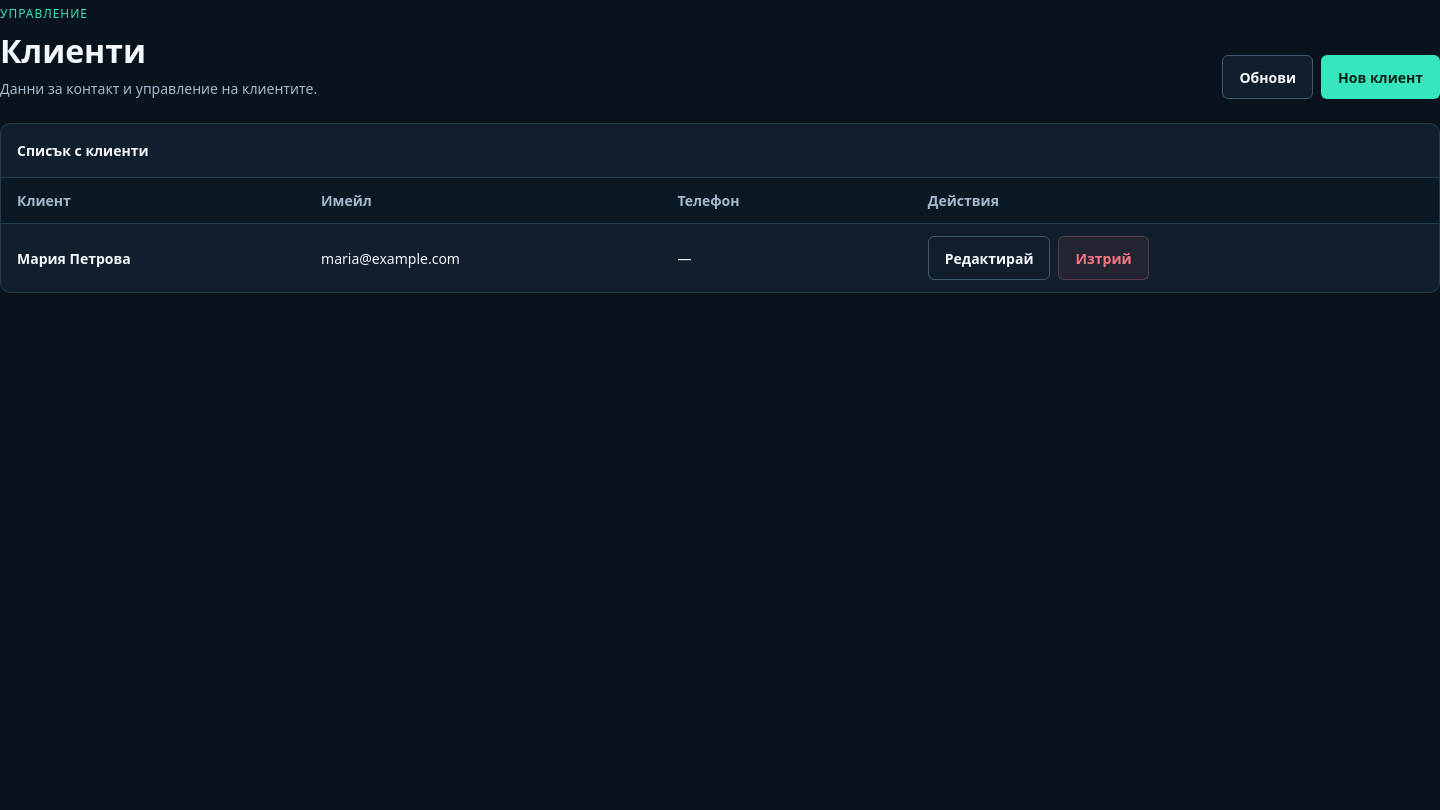
it: handles an edit detail 404 with list refresh instead of a blank editing form
The width and height of the screenshot is (1440, 810).
Check: the table is shown, box [1, 124, 1439, 292]
Click the button with aria-label "Редактирай Мария Петрова".
click(989, 258)  # box [928, 236, 1050, 280]
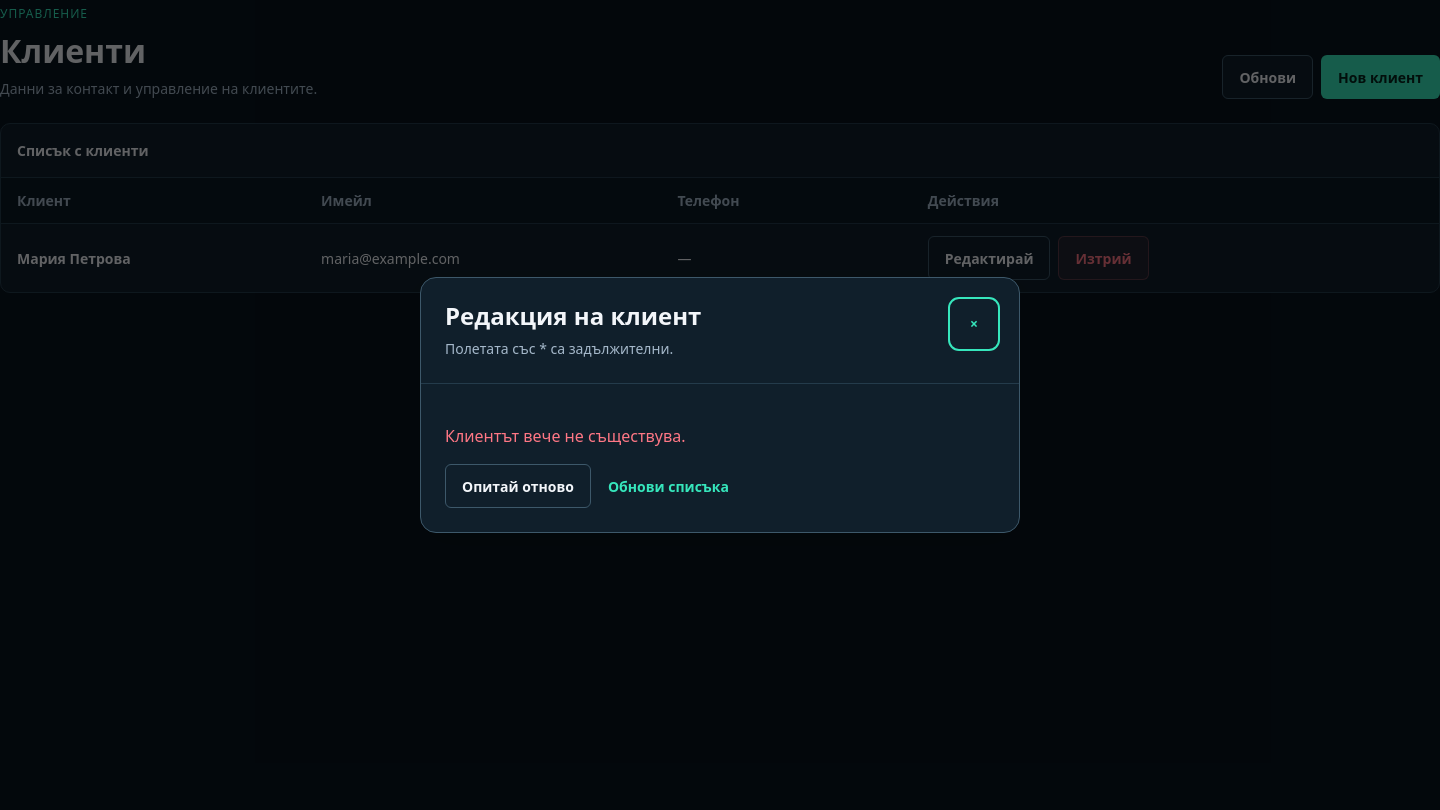
Check: the message shows "Клиентът вече не съществува.", box [445, 425, 686, 447]
Click the button "Обнови списъка".
click(668, 486)  # box [591, 464, 746, 508]
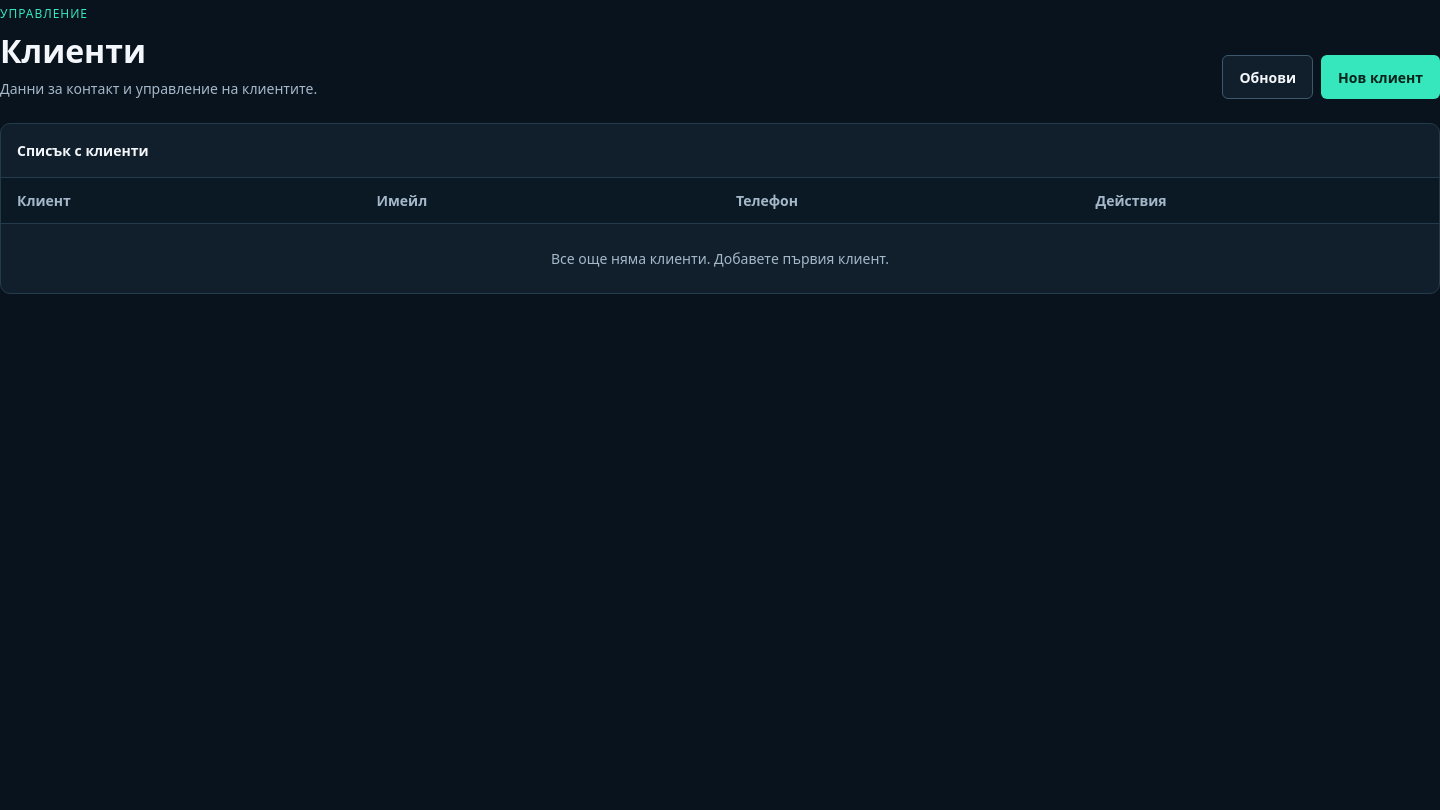
Check: the text "Все още няма клиенти. Добавете първия клиент." is shown, box [1, 224, 1439, 293]
Check: the dialog is gone
